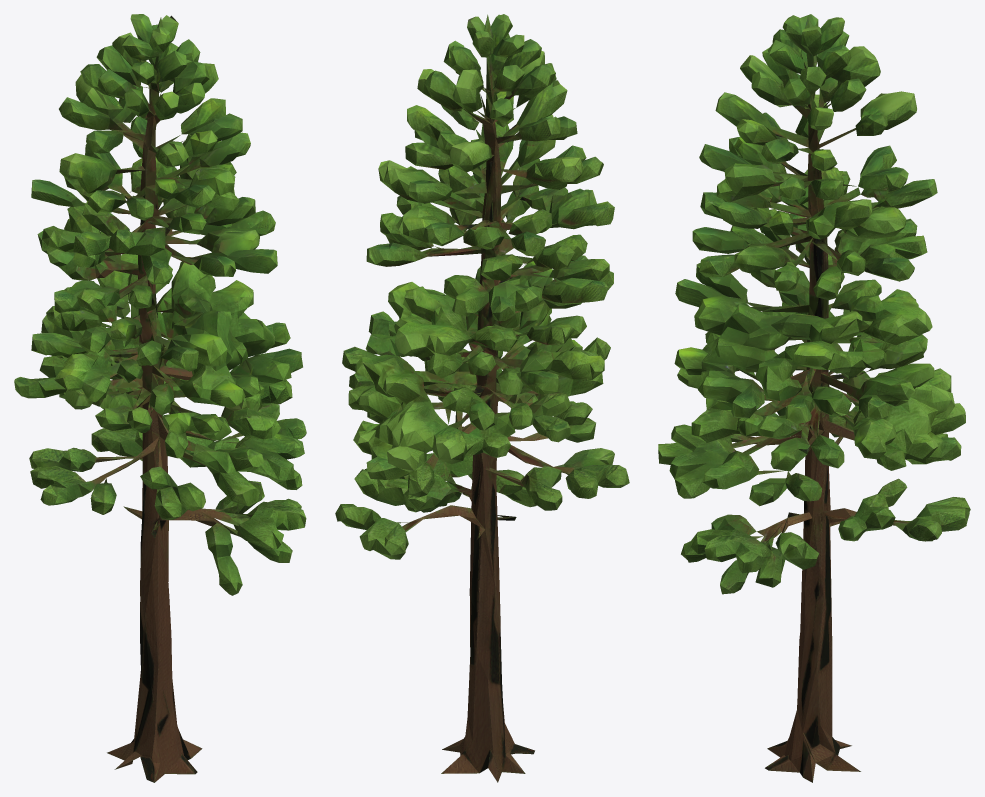
The model's file is pine_b.glb.
3 views of the same model, side by side, from view 1: azimuth 30°, elevation 25°; view 2: azimuth 150°, elevation 25°; view 3: azimuth 270°, elevation 25° (orthographic).
Bounding box in the file's own units: 0.6732 × 1.9 × 0.7189.
Materials: 1 (1 with a texture image).
